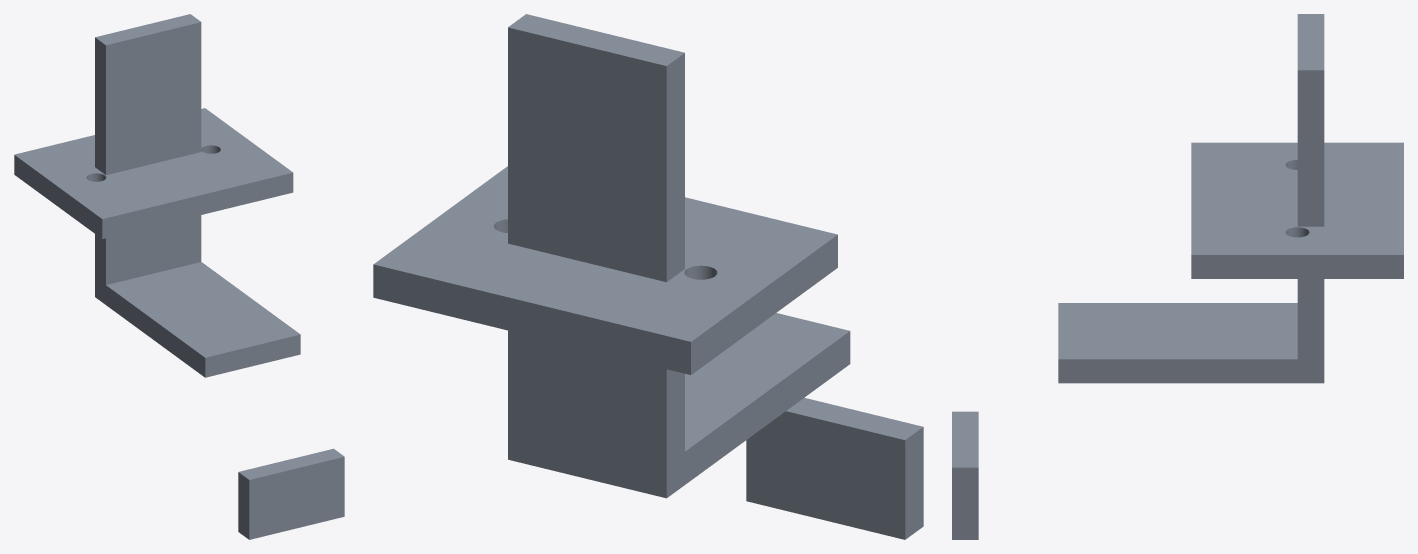
File: step-3-preview-1.glb
The picture shows the model from 3 angles, left to right: view 1: azimuth 30°, elevation 25°; view 2: azimuth 150°, elevation 25°; view 3: azimuth 270°, elevation 25°; orthographic projection. The views are drawn at different scales.
Parts seen in each view (by area): view 1: preview_10, preview_11, preview_28, preview_2, preview_23, preview_14, preview_22, preview_29, preview_12, preview_9, preview_5, preview_6 (+1 smaller); view 2: preview_8, preview_11, preview_21, preview_3, preview_13, preview_28, preview_22, preview_12, preview_9, preview_6, preview_5, preview_0; view 3: preview_11, preview_28, preview_24, preview_15, preview_7, preview_1, preview_6, preview_5.
Boxes of the visible parts, x1,y1,x2,y2 form: preview_10: (106, 22, 201, 174); preview_11: (14, 108, 292, 218); preview_28: (106, 262, 300, 357); preview_2: (249, 457, 344, 539); preview_23: (106, 215, 201, 284); preview_14: (102, 172, 293, 238); preview_22: (95, 234, 205, 377); preview_29: (205, 334, 300, 377); preview_12: (14, 155, 102, 238); preview_9: (95, 37, 105, 174); preview_5: (239, 448, 344, 479); preview_6: (95, 14, 200, 45); preview_8: (508, 27, 666, 282); preview_11: (373, 166, 837, 341); preview_21: (508, 330, 666, 498); preview_3: (746, 411, 905, 539); preview_13: (373, 264, 690, 374); preview_28: (685, 313, 849, 451); preview_22: (666, 331, 850, 497); preview_12: (691, 235, 837, 374); preview_9: (666, 53, 684, 281); preview_6: (508, 14, 684, 65); preview_5: (786, 398, 923, 439); preview_0: (905, 427, 923, 539); preview_11: (1191, 142, 1403, 254); preview_28: (1058, 303, 1297, 359); preview_24: (1058, 279, 1324, 383); preview_15: (1191, 255, 1403, 278); preview_7: (1297, 70, 1324, 226); preview_1: (952, 467, 978, 539); preview_6: (1297, 14, 1324, 70); preview_5: (952, 411, 978, 467).
Size of the model in its own units: 0.05 by 0.0975 by 0.085.
